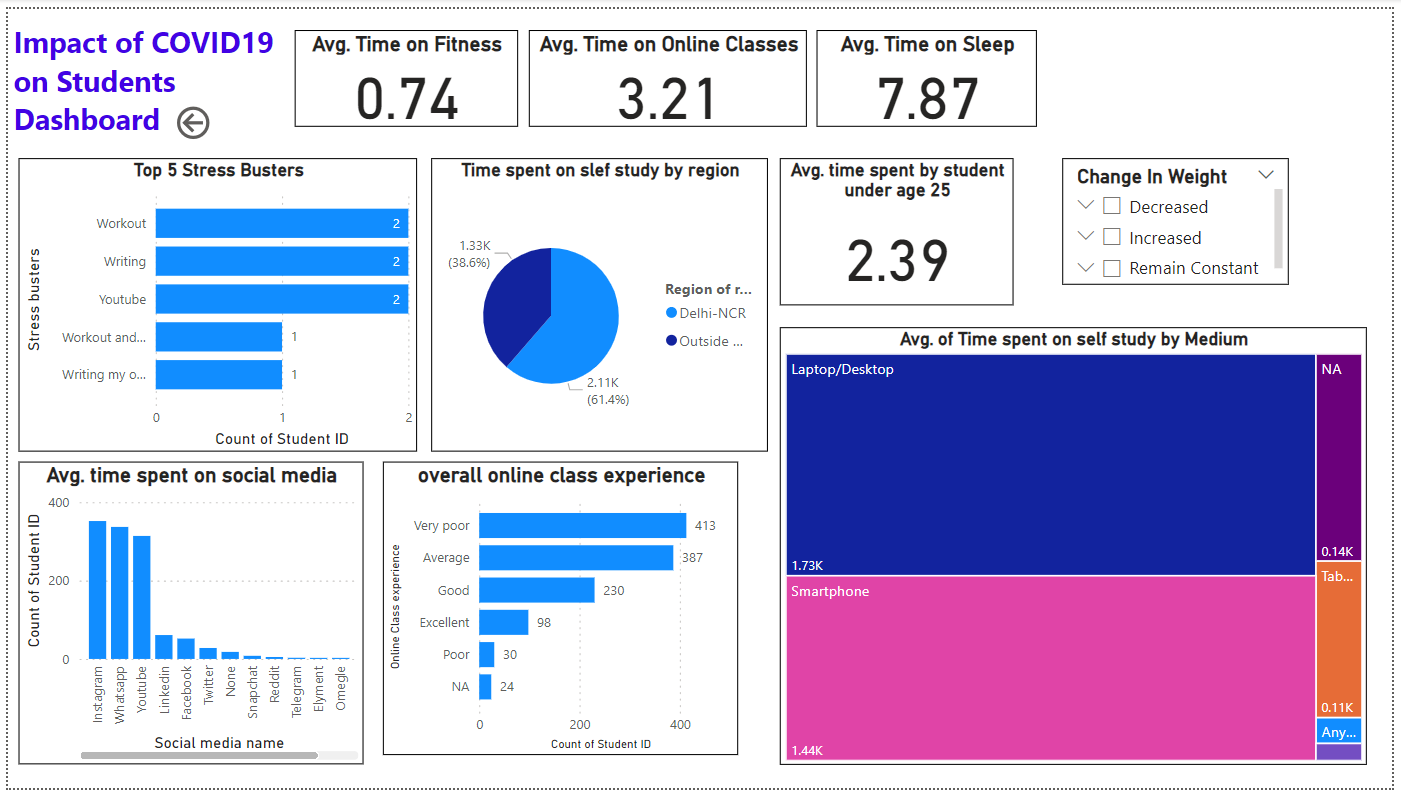

What the dashboard file says about the page in this screenshot:
{"tool":"powerbi","page":{"name":"Page 1","canvas":[1280,720],"ordinal":0},"visuals":[{"type":"card","title":"Avg. Time on Fitness","fields":{"Values":["Student_Survey.Time spent on fitness"]},"box":[265.4,19.8,206.2,90],"z":0},{"type":"card","title":"Avg. Time on Online Classes","fields":{"Values":["Student_Survey.Time spent on Online Class"]},"box":[481.7,19.8,257.5,90],"z":1000},{"type":"card","title":"Avg. Time on Sleep","fields":{"Values":["Student_Survey.Time spent on sleep"]},"box":[747.9,19.8,203.8,90],"z":2000},{"type":"textbox","box":[0,7.7,250.8,117.7],"z":3000},{"type":"slicer","title":" change in weight during the lockdown","fields":{"Values":["Student_Survey.Change in your weight","Student_Survey.Student ID"]},"box":[975,137.5,210,117.5],"z":4000},{"type":"barChart","title":"Top 5 Stress Busters","fields":{"Category":["Student_Survey.Stress busters"],"Y":["Student_Survey.Student ID"]},"box":[10,137.5,368.8,271.2],"z":5000},{"type":"columnChart","title":"Avg. time spent on social media","fields":{"Category":["Student_Survey.Social media name"],"Y":["Student_Survey.Student ID"]},"box":[10,418.8,318.8,280],"z":6000},{"type":"clusteredBarChart","title":"overall online class experience","fields":{"Category":["Student_Survey.Online Class experience"],"Y":["Student_Survey.Student ID"]},"box":[346.2,418.8,328.8,271.2],"z":7000},{"type":"card","title":"Avg. time spent by student under age 25","fields":{"Values":["Student_Survey.Time spent on social media"]},"box":[713.8,137.5,216.2,136.2],"z":8000},{"type":"actionButton","box":[151.2,85,100,40],"z":9000},{"type":"treemap","title":"Avg. of Time spent on self study by Medium","fields":{"Group":["Student_Survey.Medium for online class"],"Values":["Student_Survey.Time spent on self study"]},"box":[713.8,293.8,542.5,405],"z":9001},{"type":"pieChart","title":"Time spent on slef study by region","fields":{"Category":["Student_Survey.Region of residence"],"Y":["Student_Survey.Time spent on self study"]},"box":[391.2,137.5,311.2,271.2],"z":9002}]}

Visuals, with their boxes in screenshot pixels (x1, y1, x2, y2), scaled from the page's 1280x720 canvas onto the 1401x794 screenshot:
"Avg. Time on Fitness" card: locate(290, 22, 516, 121)
"Avg. Time on Online Classes" card: locate(527, 22, 809, 121)
"Avg. Time on Sleep" card: locate(819, 22, 1042, 121)
textbox: locate(0, 8, 275, 138)
" change in weight during the lockdown" slicer: locate(1067, 152, 1297, 281)
"Top 5 Stress Busters" barChart: locate(11, 152, 415, 451)
"Avg. time spent on social media" columnChart: locate(11, 462, 360, 771)
"overall online class experience" clusteredBarChart: locate(379, 462, 739, 761)
"Avg. time spent by student under age 25" card: locate(781, 152, 1018, 302)
actionButton: locate(165, 94, 275, 138)
"Avg. of Time spent on self study by Medium" treemap: locate(781, 324, 1375, 771)
"Time spent on slef study by region" pieChart: locate(428, 152, 769, 451)
